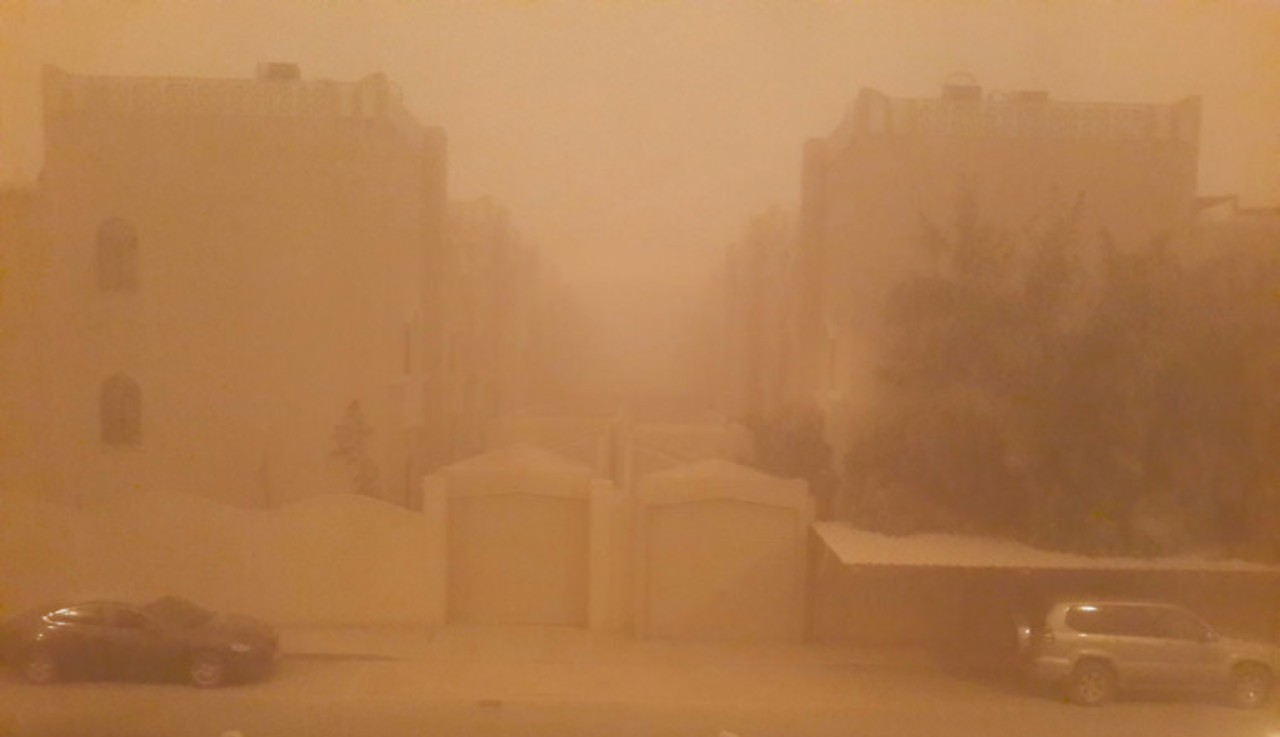car: (1013, 596, 1275, 709), (13, 593, 281, 689)
